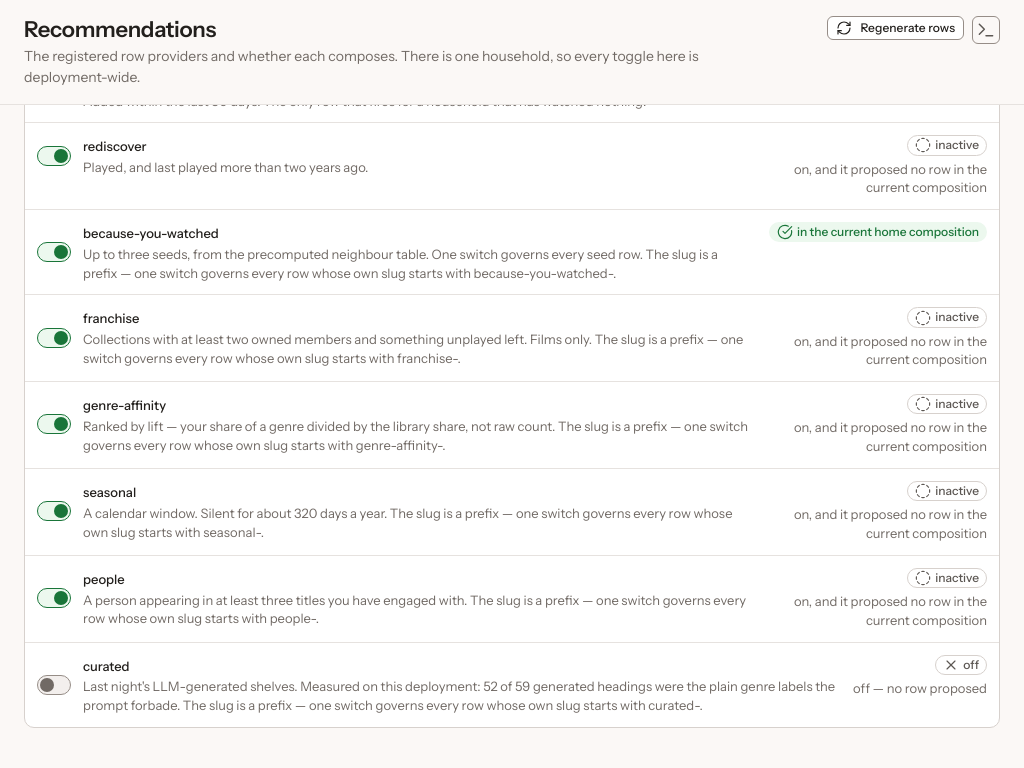
Test: Rows › regeneration › toggling a provider is a notice, not a receipt — the PUT answers 200
(page scrolled)
Click the switch labelled "curated": [437, 685] box [37,655,837,715]
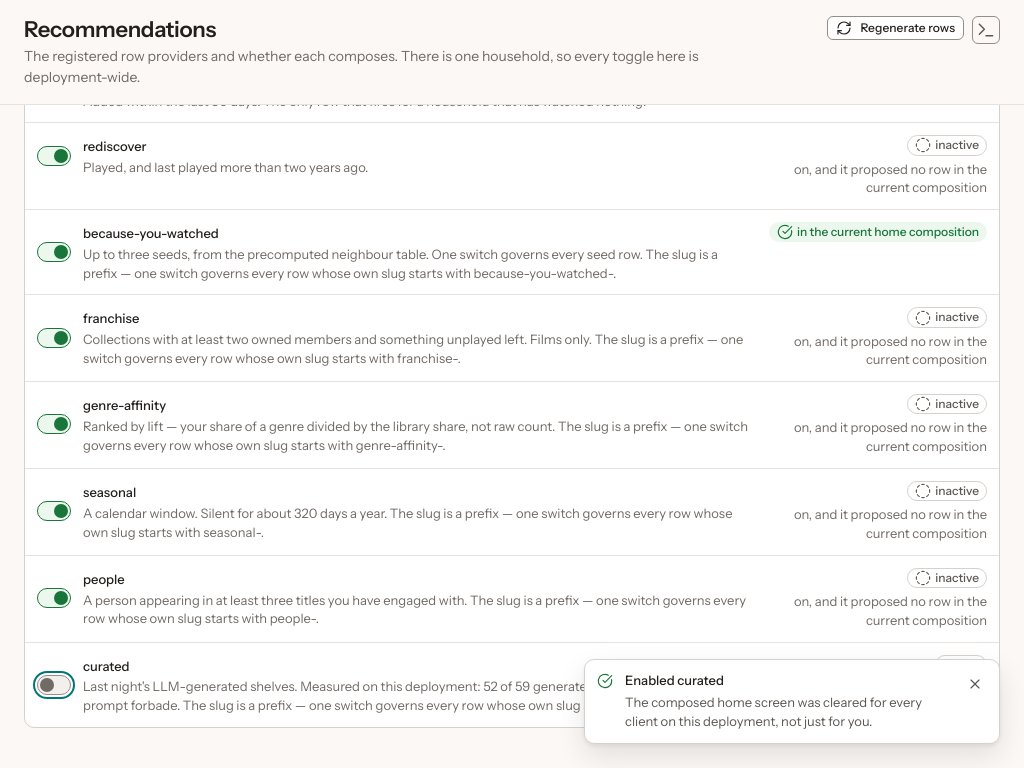
expect the text "Enabled curated" is shown: met, box [625,672,724,688]
